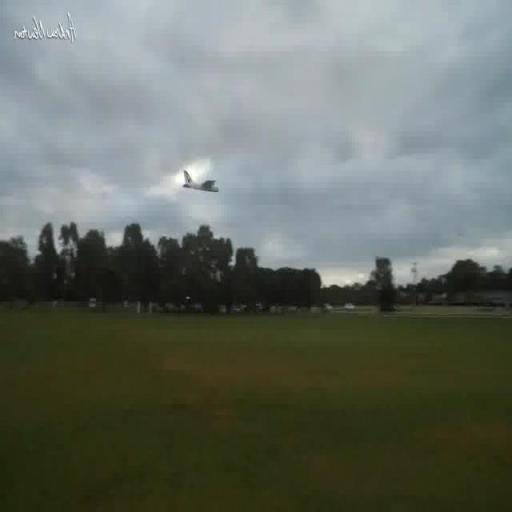uav: (172, 156, 222, 214)
